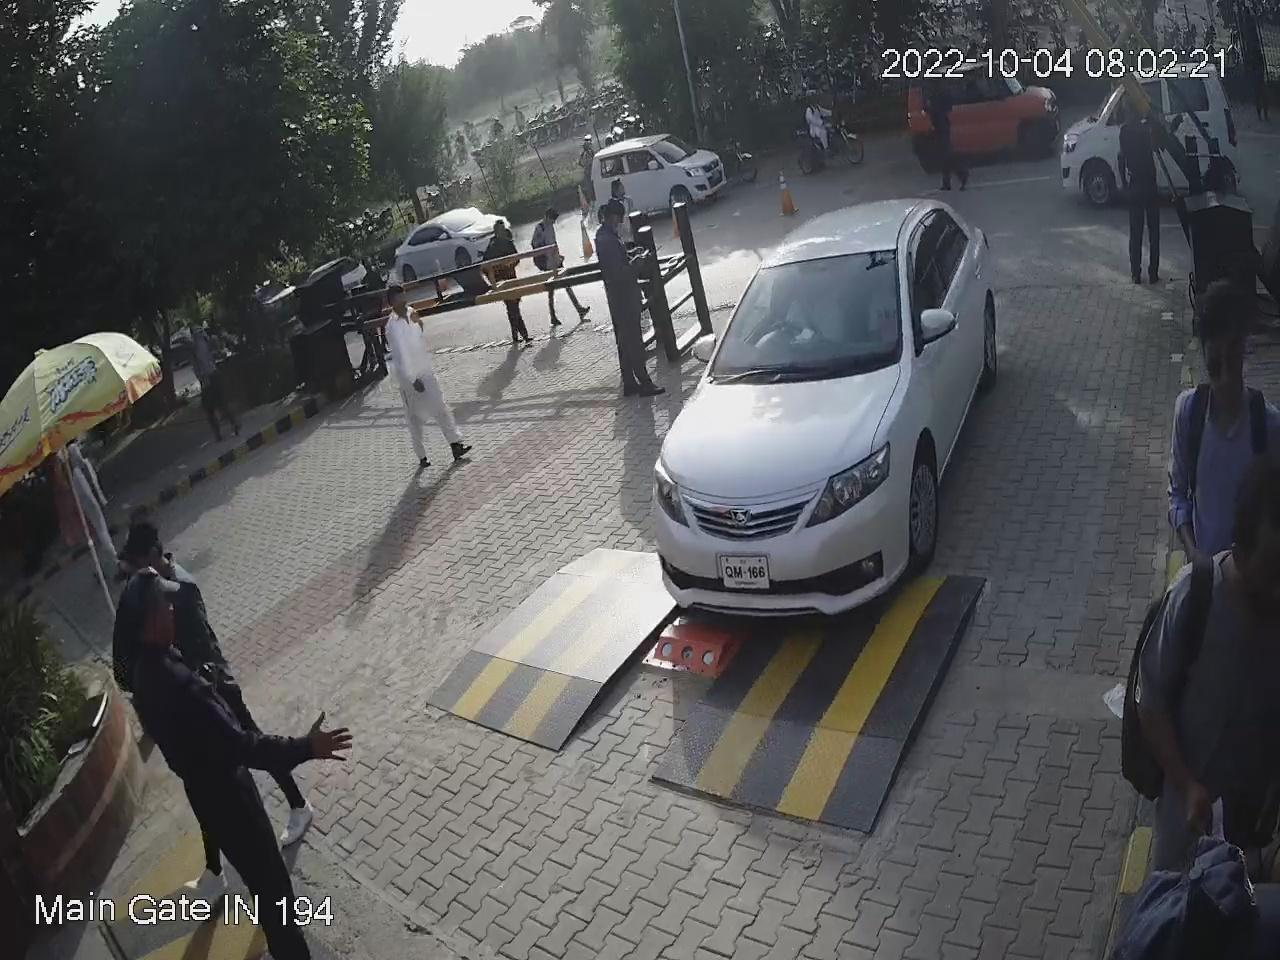windshield: (695, 228, 905, 387)
